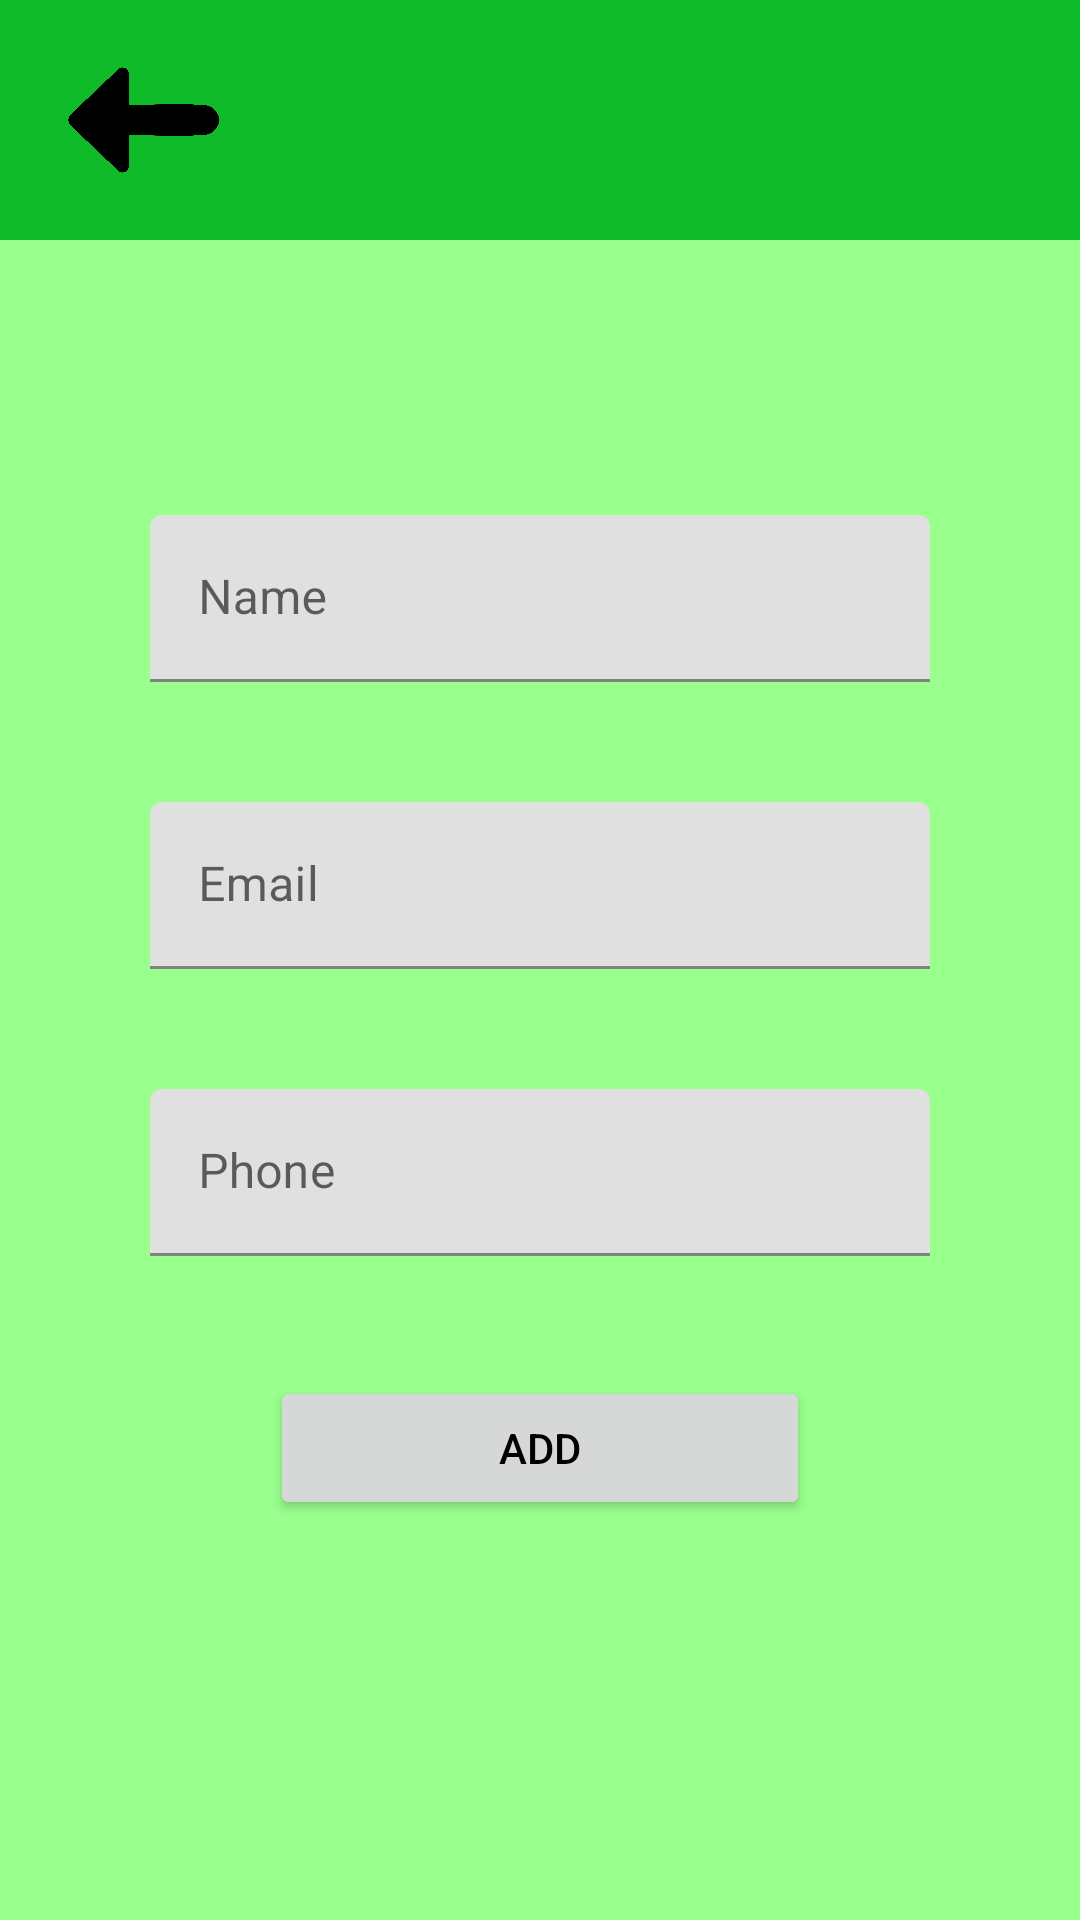

Named icons in this screenshot (1080×1920) and their bounding boxes, (x1, y1, x2, y2):
back arrow: (68, 67, 219, 173)
